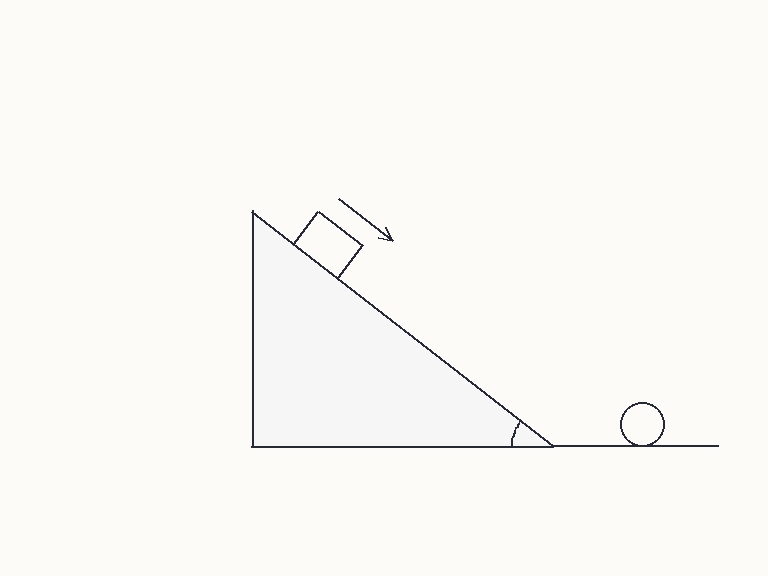ball: (618, 400, 666, 448)
block: (291, 209, 364, 280)
ramp: (250, 209, 554, 448)
